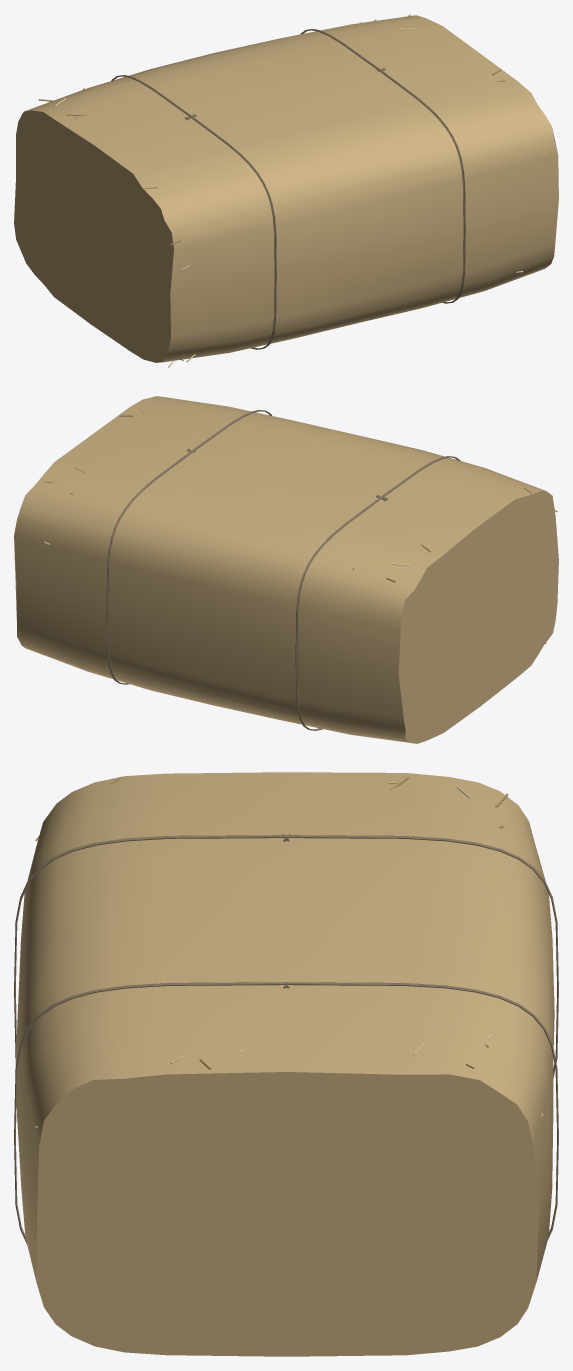
The model's file is frontier-hay.glb.
3 views of the same model, one above another, from view 1: azimuth 30°, elevation 25°; view 2: azimuth 150°, elevation 25°; view 3: azimuth 270°, elevation 25° (orthographic). The views are drawn at different scales.
Parts seen in each view (by area): view 1: Pressed sun-dried straw, Worn linen baling twine; view 2: Pressed sun-dried straw, Worn linen baling twine; view 3: Pressed sun-dried straw, Worn linen baling twine.
Part boxes in pixels (x1,y1,x2,y2): Pressed sun-dried straw: [14, 15, 558, 362]; Worn linen baling twine: [111, 29, 465, 349]; Pressed sun-dried straw: [14, 396, 558, 743]; Worn linen baling twine: [106, 409, 460, 730]; Pressed sun-dried straw: [15, 772, 554, 1356]; Worn linen baling twine: [14, 834, 558, 1244].
Size of the model in its own units: 1.05 by 0.499 by 0.7987.
